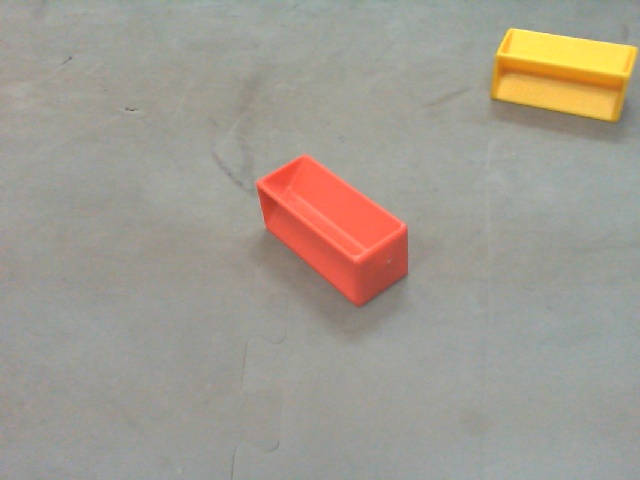RedSample: (254, 154, 409, 310)
YellowSample: (490, 28, 639, 122)
